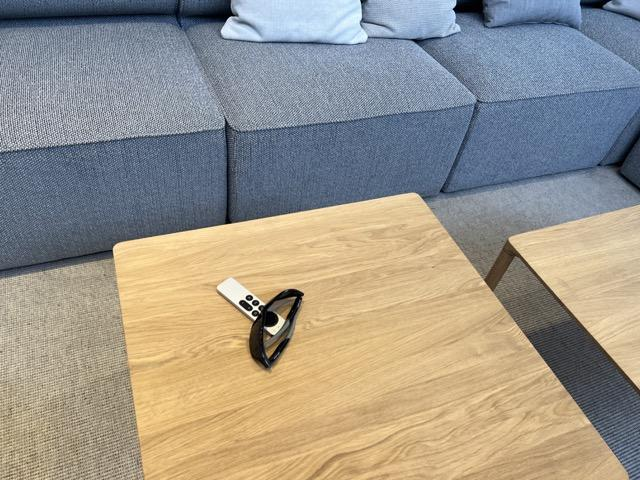Sunglasses: (249, 287, 305, 372)
